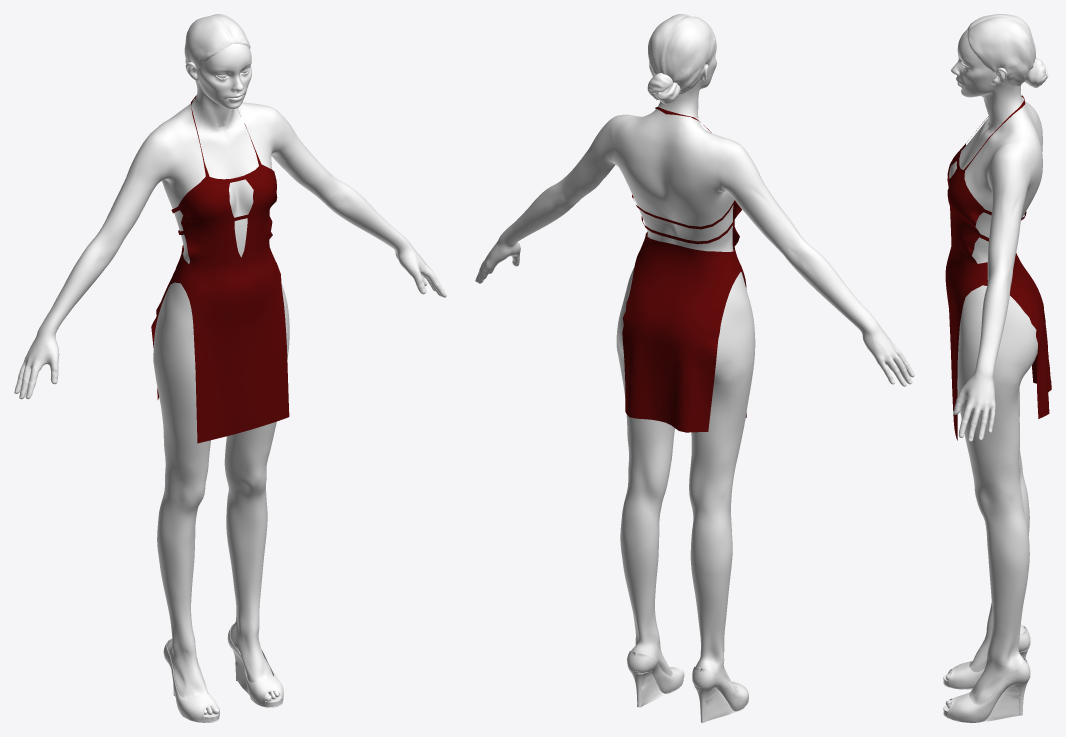
Rendered from dress.glb.
3 renders of one model, left to right at view 1: azimuth 30°, elevation 25°; view 2: azimuth 150°, elevation 25°; view 3: azimuth 270°, elevation 25°, orthographic.
Visible parts, largest first — view 1: 003objcleanermaterialmergergles; view 2: 003objcleanermaterialmergergles; view 3: 003objcleanermaterialmergergles.
Part boxes in pixels (left/top/right/bottom): 003objcleanermaterialmergergles: left=14, top=14, right=446, bottom=722; 003objcleanermaterialmergergles: left=475, top=14, right=914, bottom=722; 003objcleanermaterialmergergles: left=943, top=14, right=1051, bottom=722.
Size of the model in its own units: 1229 by 1876 by 270.
